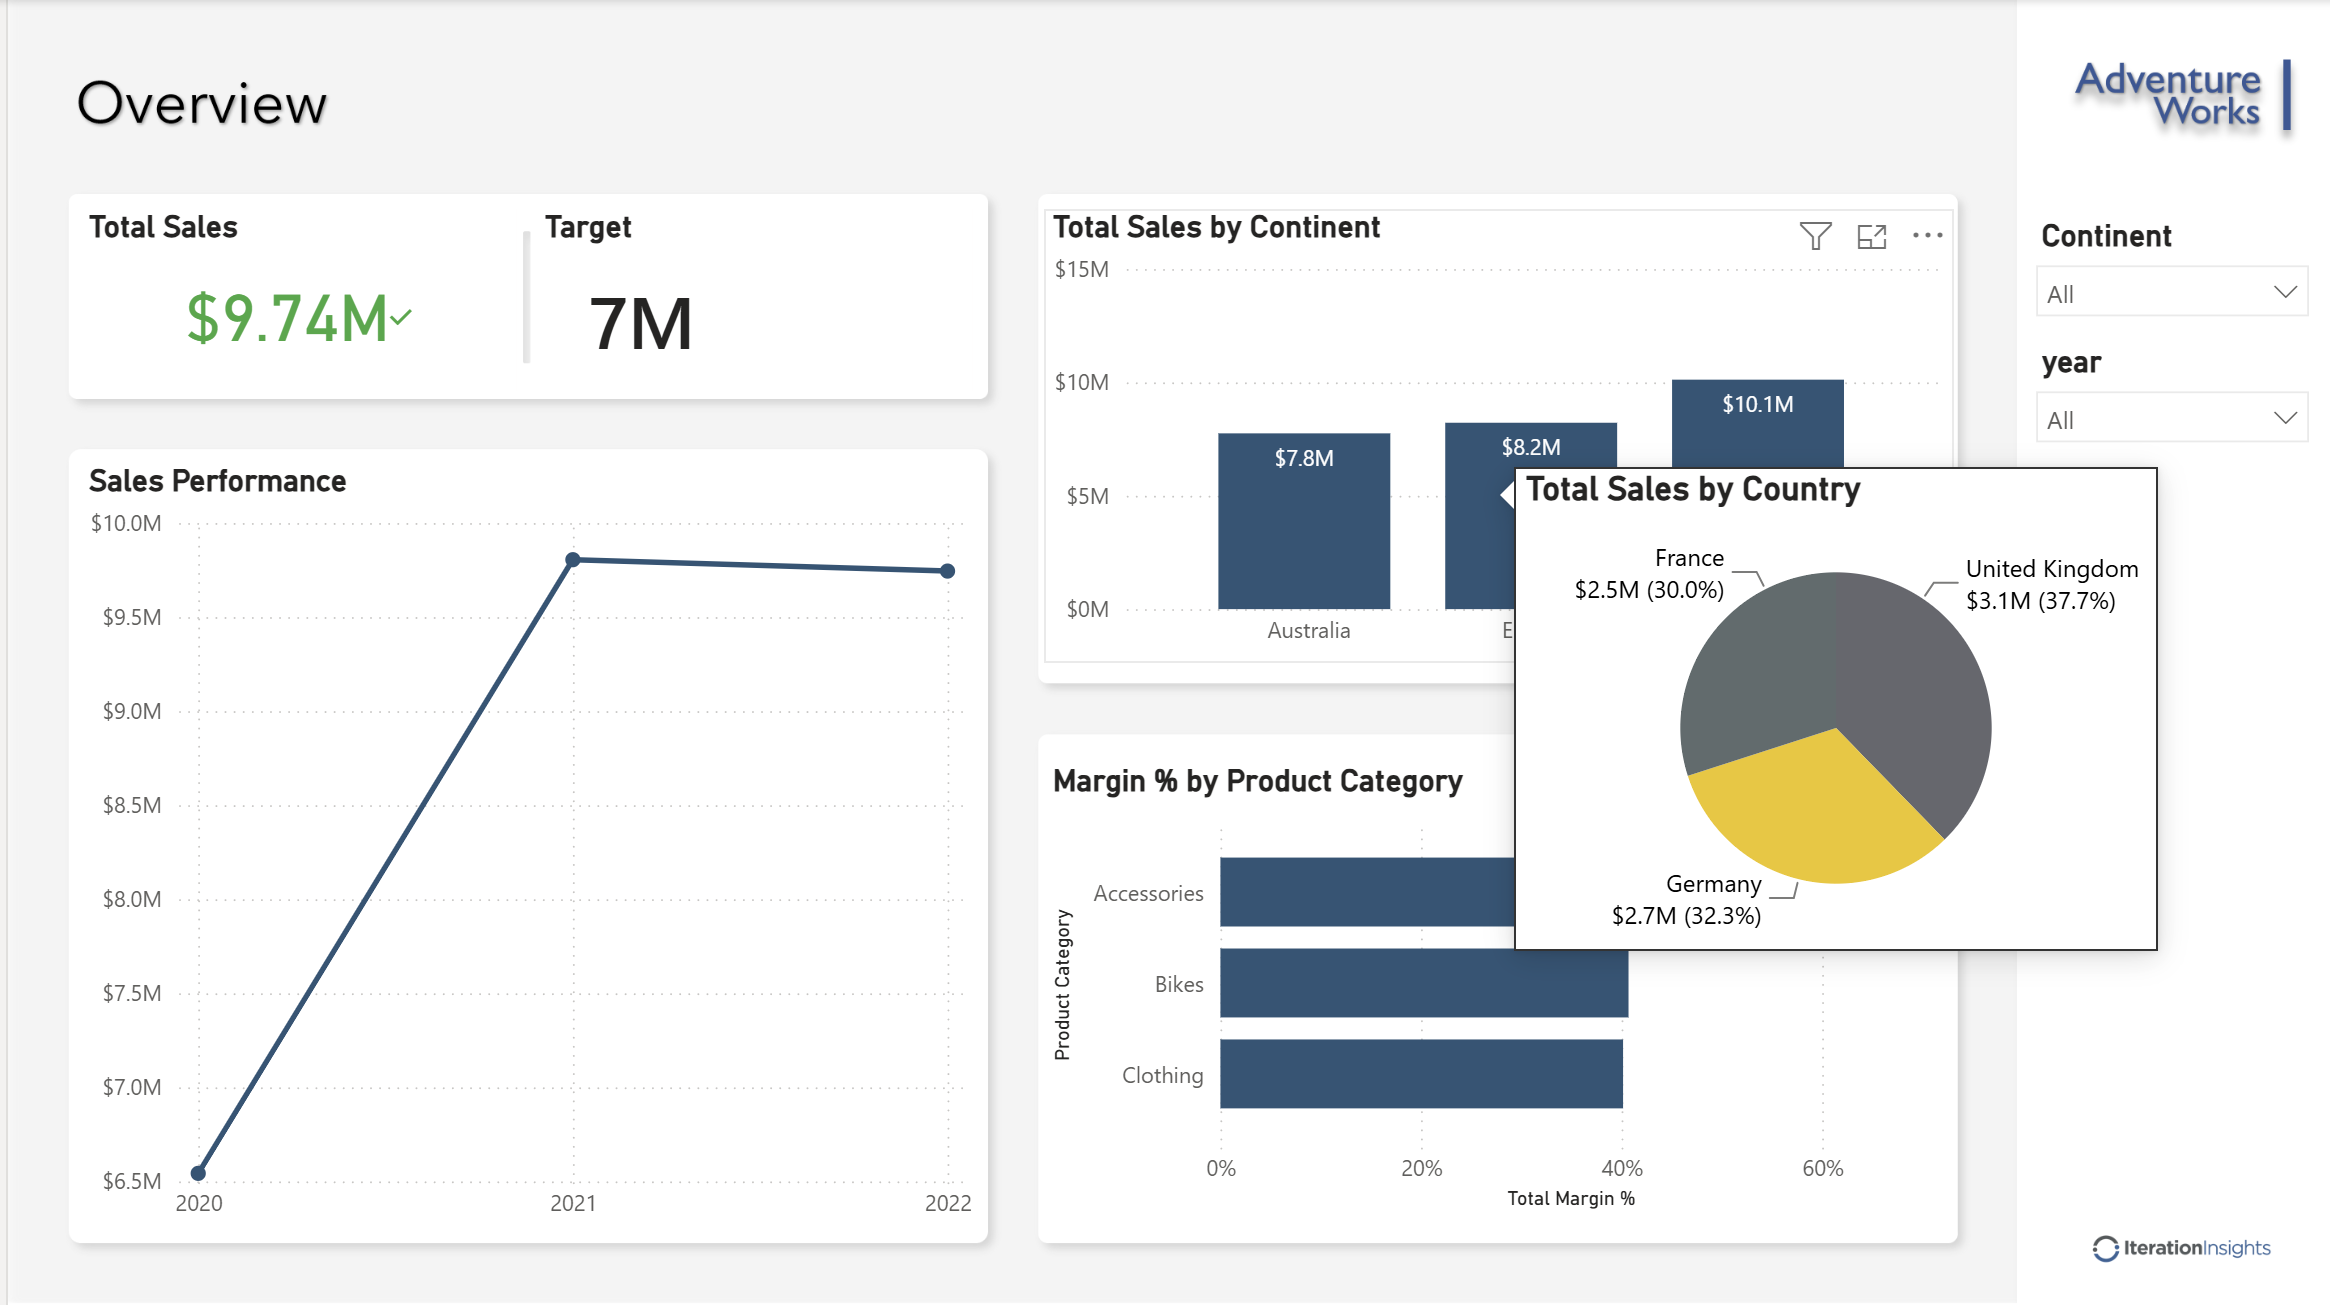

The page's visual inventory and layout, read from the dashboard file:
{"tool":"powerbi","page":{"name":"Overview","canvas":[1280,720],"ordinal":0},"visuals":[{"type":"clusteredColumnChart","title":"Total Sales by Continent","fields":{"Category":["Sales Territory.Sales Territory Continent"],"Y":["Sales.Total Sales"]},"box":[570,115,500,250],"z":0},{"type":"clusteredBarChart","title":"Margin % by Product Category","fields":{"Category":["Product.Product Hierarchy.Product Category","Product.Product Hierarchy.Product Subcategory"],"Y":["Sales.Total Margin %"]},"box":[570,420,500,250],"z":1000},{"type":"lineChart","title":"Sales Performance","fields":{"Y":["Sales.Total Sales"],"Category":["Order Date.Order Date Hierarchy.Order Date Year","Order Date.Order Date Hierarchy.Order Date Month","Order Date.Order Date Hierarchy.Order Date"]},"box":[40,255,495,425],"z":2000},{"type":"kpi","title":"Total Sales","fields":{"Indicator":["Sales.Total Sales"],"TrendLine":["Order Date.Order Date Year"],"Goal":["Sales.Target"]},"box":[40,115,240,100],"z":3000},{"type":"cardVisual","title":"Target","fields":{"Data":["Sales.Target"]},"box":[290,115,240,100],"z":4000},{"type":"slicer","title":"Slicer Continent","fields":{"Values":["Sales Territory.Sales Territory Continent"]},"box":[1105,115,170,70],"z":5000},{"type":"slicer","title":"Slicer year","fields":{"Values":["Order Date.Order Date Year"]},"box":[1105,185,170,70],"z":6000}]}

Visuals, with their boxes in screenshot pixels (x1, y1, x2, y2), scaled from the page's 1280x720 canvas onto the 2330x1305 screenshot:
"Total Sales by Continent" clusteredColumnChart: [x1=1038, y1=208, x2=1948, y2=662]
"Margin % by Product Category" clusteredBarChart: [x1=1038, y1=761, x2=1948, y2=1214]
"Sales Performance" lineChart: [x1=73, y1=462, x2=974, y2=1232]
"Total Sales" kpi: [x1=73, y1=208, x2=510, y2=390]
"Target" cardVisual: [x1=528, y1=208, x2=965, y2=390]
"Slicer Continent" slicer: [x1=2011, y1=208, x2=2321, y2=335]
"Slicer year" slicer: [x1=2011, y1=335, x2=2321, y2=462]
